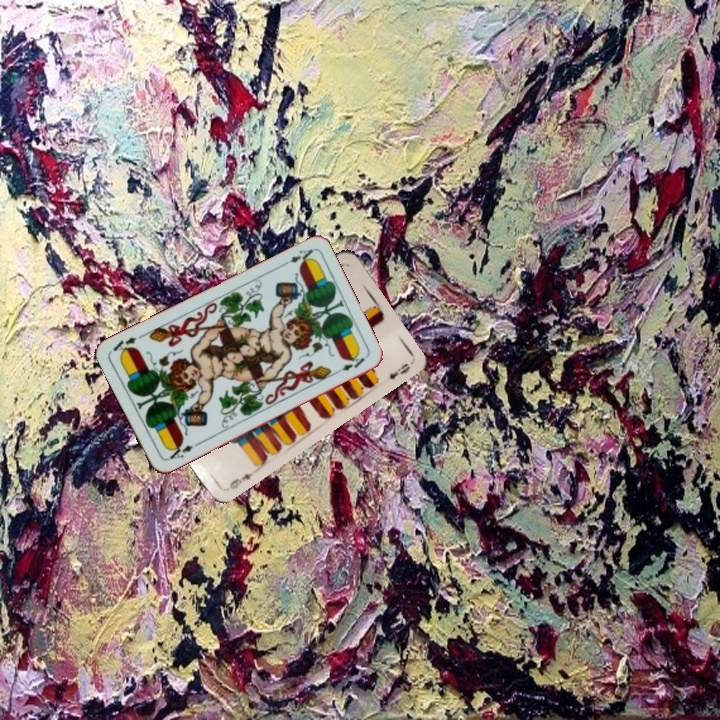E9: (225, 469, 255, 492)
EA: (277, 245, 316, 269), (163, 439, 196, 463)
